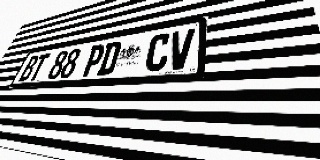8: (58, 47, 83, 79), (46, 50, 70, 80)
B: (18, 55, 40, 82)
C: (143, 32, 172, 72)
D: (96, 41, 123, 76)
P: (81, 43, 107, 77)
T: (27, 53, 50, 81)
V: (166, 28, 195, 70)
